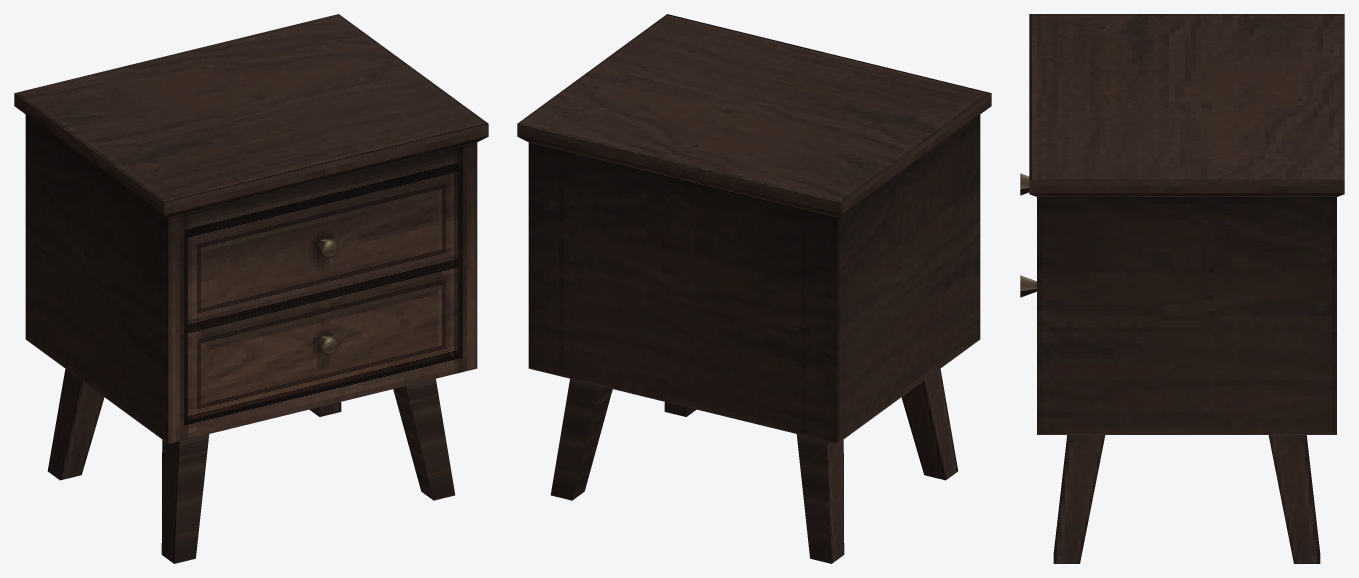
Rendered from nightstand_low_poly.glb.
The picture shows the model from 3 angles, left to right: view 1: azimuth 30°, elevation 25°; view 2: azimuth 150°, elevation 25°; view 3: azimuth 270°, elevation 25°; orthographic projection. The views are drawn at different scales.
Visible parts, largest first — view 1: NightStand; view 2: NightStand; view 3: NightStand.
Boxes of the visible parts, x1,y1,x2,y2 form: NightStand: (14, 14, 488, 563); NightStand: (517, 14, 991, 563); NightStand: (1020, 14, 1344, 563).
Size of the model in its own units: 0.5252 by 0.58 by 0.4321.
Materials: 1 (1 with a texture image).
